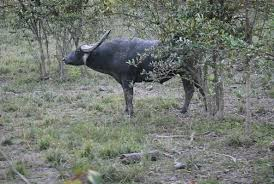buffalo: (60, 28, 217, 114)
